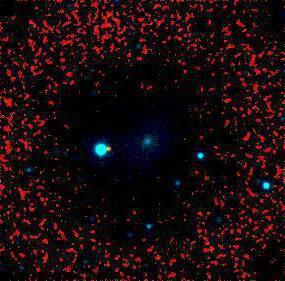star: (94, 132, 124, 162)
